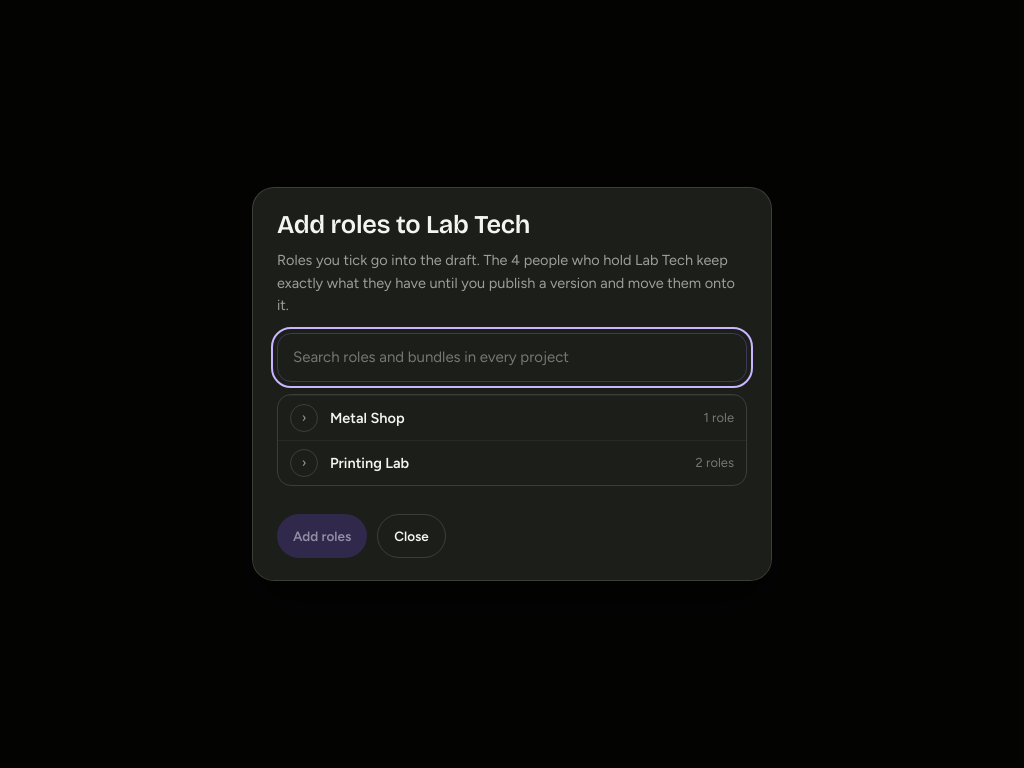
Test: AddRolesToBundle › unticks a role from its chip
The image size is (1024, 768).
Click the button "› Printing Lab 2 roles": (370,463) [278,441,746,485]
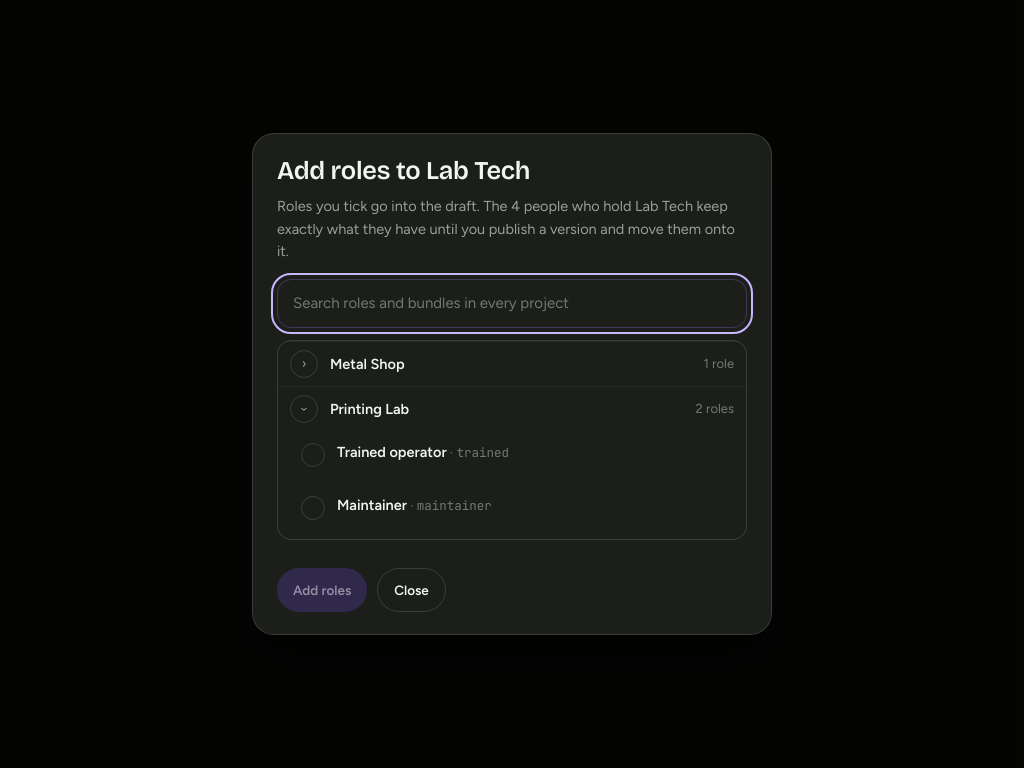
Click the checkbox labelled "Maintainer · maintainer": (396,508) [301,496,492,520]
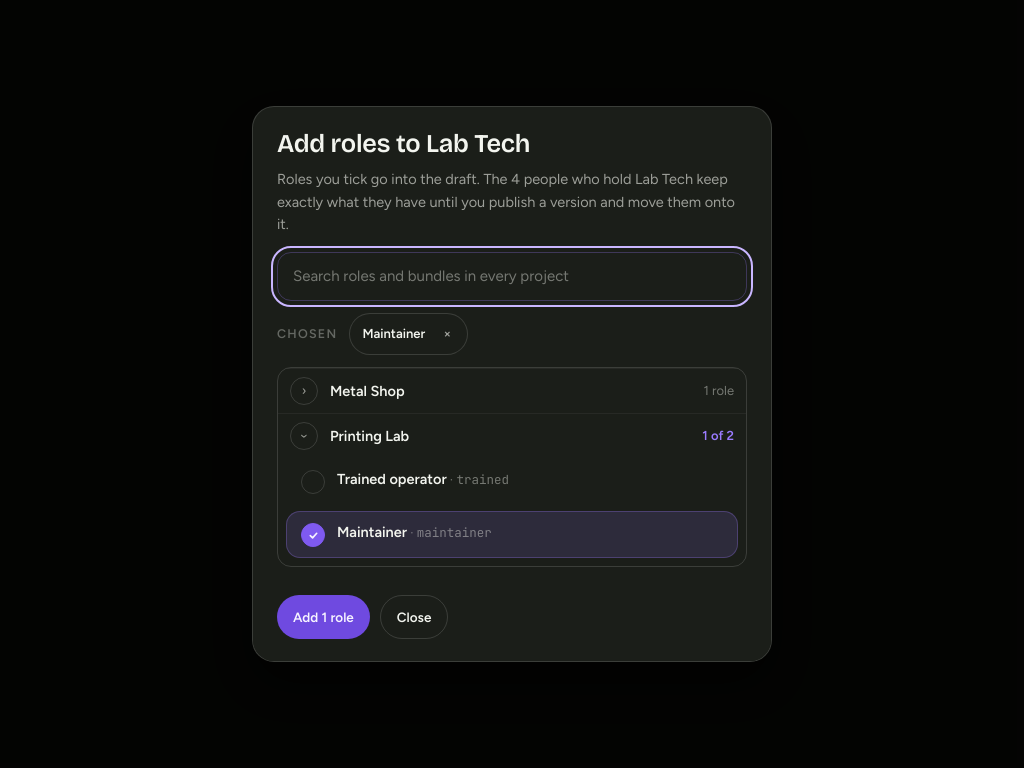
Expected: the button "Add 1 role" is shown, [277,595,370,639]
Click the button named "Remove Maintainer": (447,334) [429,312,465,356]
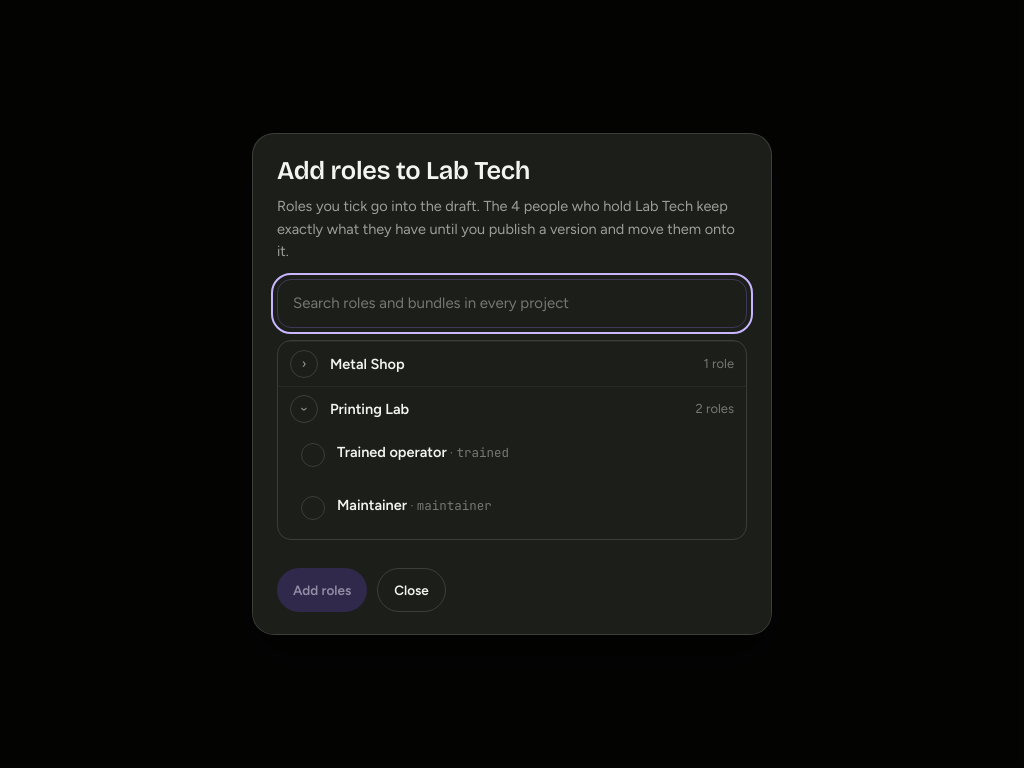
Expected: the checkbox labelled "Maintainer · maintainer" is not checked, [301,496,492,520]
Expected: the button "Add 1 role" is gone
